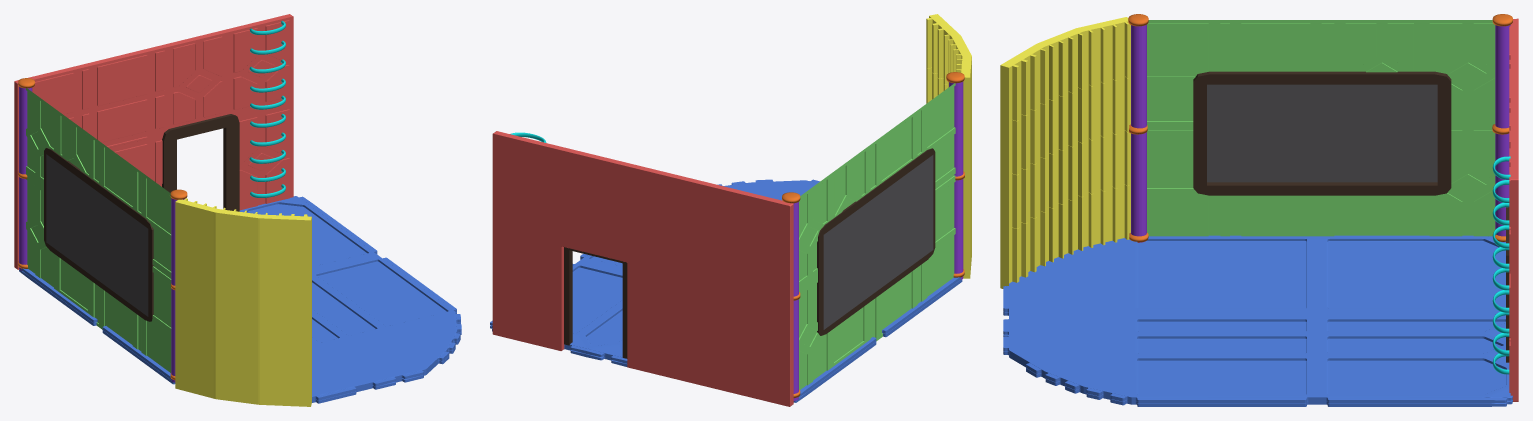
The model's file is room edited.fbx.
The picture shows the model from 3 angles, left to right: view 1: azimuth 30°, elevation 25°; view 2: azimuth 150°, elevation 25°; view 3: azimuth 270°, elevation 25°; orthographic projection. The views are drawn at different scales.
Visible parts, largest first — view 1: Cube.001, Cube.011, Cube.002, Cube.013, Cube.009, Cube.004, Cylinder.006, Cube.006, Torus.009, Cylinder.003; view 2: Cube.001, Cube.013, Cube.009, Cube.002, Cube.011, Cylinder.006, Cube.006, Cube.004, Cylinder.003; view 3: Cube.002, Cube.013, Cube.011, Cube.009, Cube.006, Cylinder.006, Cube.001, Torus.009, Cylinder.003.
Boxes of the visible parts, x1,y1,x2,y2 form: Cube.001: (14,14,293,269); Cube.011: (175,198,311,406); Cube.002: (19,196,461,403); Cube.013: (26,88,171,372); Cube.009: (46,154,148,316); Cube.004: (162,114,239,211); Cylinder.006: (19,86,184,382); Cube.006: (44,148,153,321); Torus.009: (249,20,285,197); Cylinder.003: (18,78,187,380); Cube.001: (492,131,793,406); Cube.013: (799,83,955,389); Cube.009: (823,155,933,329); Cube.002: (490,179,962,402); Cube.011: (926,14,971,278); Cylinder.006: (793,81,963,400); Cube.006: (817,148,935,335); Cube.004: (564,247,627,358); Cylinder.003: (782,72,964,398); Cube.002: (1003,235,1512,406); Cube.013: (1147,20,1495,236); Cube.011: (1000,17,1130,288); Cube.009: (1207,84,1437,182); Cube.006: (1193,71,1451,195); Cylinder.006: (1131,24,1510,242); Cube.001: (1509,18,1518,401); Torus.009: (1492,156,1510,374); Cylinder.003: (1128,14,1512,242).
Bounding box in the file's own units: 679 × 432 × 890.
